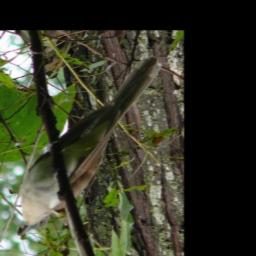Cuckoo: (17, 55, 162, 236)
